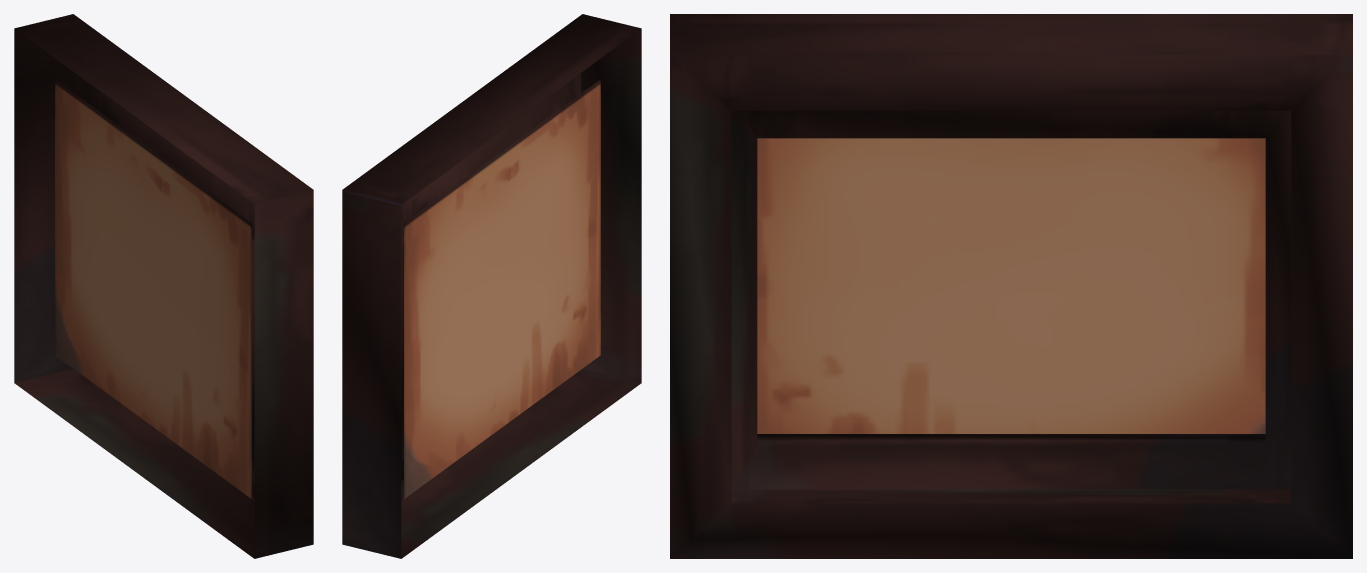
Rendered from JanelaPequena1.fbx.
The picture shows the model from 3 angles, left to right: view 1: azimuth 30°, elevation 25°; view 2: azimuth 150°, elevation 25°; view 3: azimuth 270°, elevation 25°; orthographic projection. The views are drawn at different scales.
Visible parts, largest first — view 1: JanelaPequena1; view 2: JanelaPequena1; view 3: JanelaPequena1.
Part boxes in pixels (x1,y1,x2,y2): JanelaPequena1: [14, 14, 313, 558]; JanelaPequena1: [342, 14, 641, 558]; JanelaPequena1: [670, 14, 1352, 558].
Bounding box in the file's own units: 7.14 × 50.19 × 40.88.
